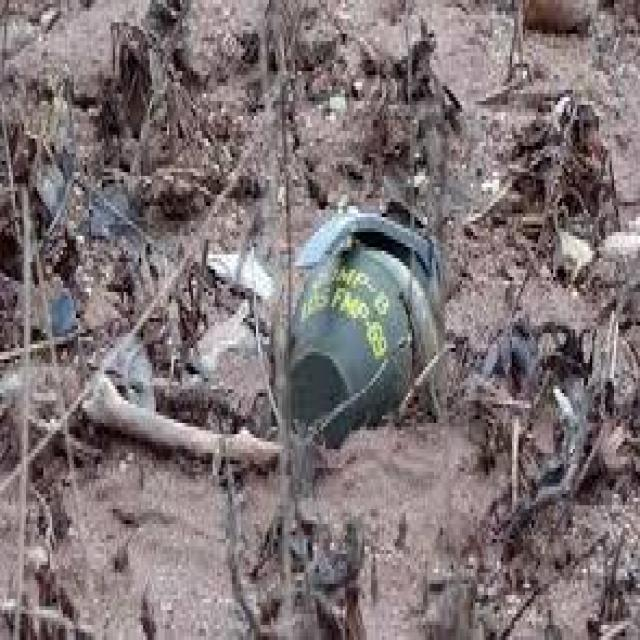grenade: (285, 212, 447, 457)
